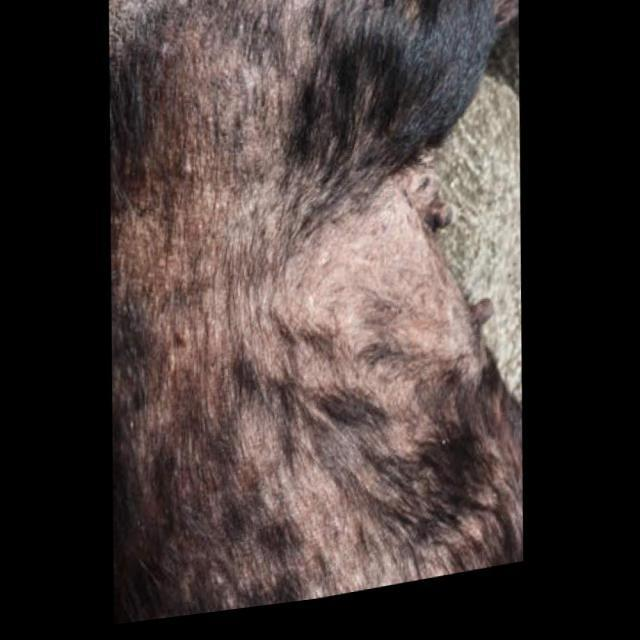mange: (121, 273, 295, 596), (114, 2, 293, 292), (312, 214, 419, 432), (307, 452, 470, 568)
